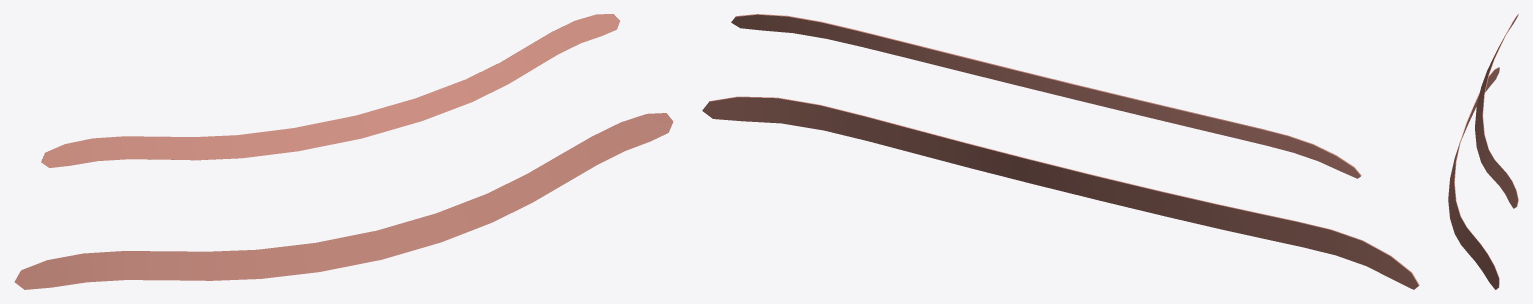
The picture shows the model from 3 angles, left to right: view 1: azimuth 30°, elevation 25°; view 2: azimuth 150°, elevation 25°; view 3: azimuth 270°, elevation 25°; orthographic projection. The views are drawn at different scales.
Parts seen in each view (by area): view 1: forehead_marks; view 2: forehead_marks; view 3: forehead_marks.
Boxes of the visible parts, x1=… form: forehead_marks: x1=14, y1=14, x2=673, y2=289; forehead_marks: x1=702, y1=14, x2=1419, y2=289; forehead_marks: x1=1448, y1=14, x2=1518, y2=289.
Size of the model in its own units: 0.7964 by 0.1684 by 0.1102.
